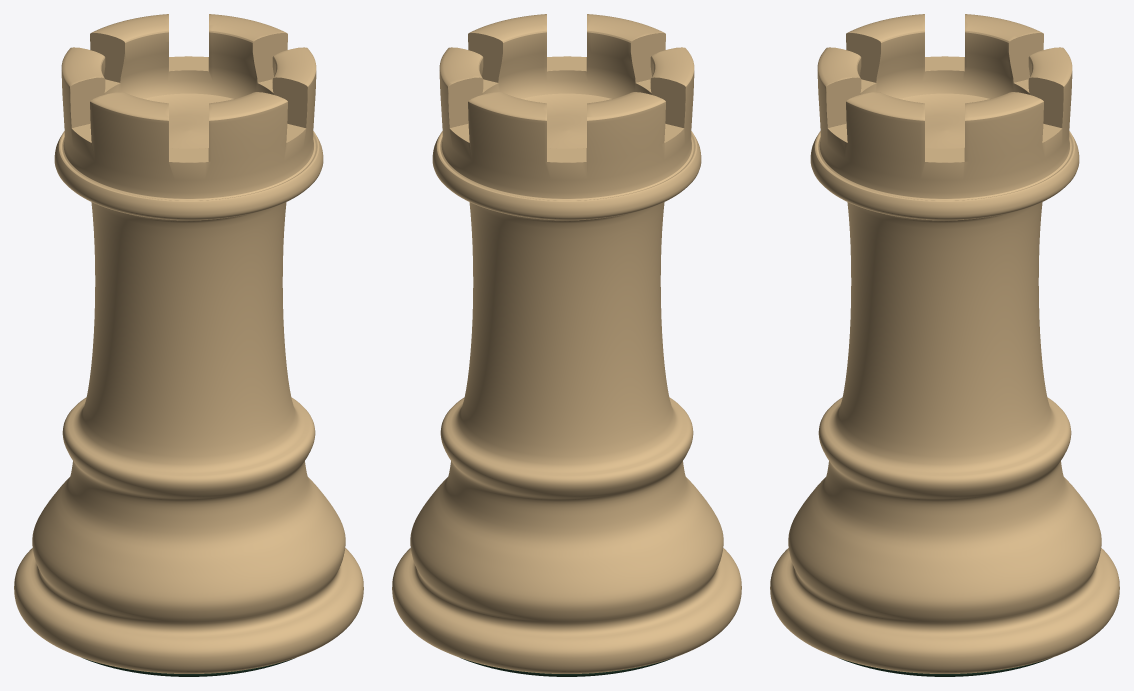
File: rook.glb
3 views of the same model, side by side, from view 1: azimuth 30°, elevation 25°; view 2: azimuth 150°, elevation 25°; view 3: azimuth 270°, elevation 25° (orthographic).
Parts seen in each view (by area): view 1: Rook.001; view 2: Rook.001; view 3: Rook.001.
Boxes of the visible parts, bbox=[...] form: Rook.001: bbox=[14, 14, 363, 676]; Rook.001: bbox=[392, 14, 741, 676]; Rook.001: bbox=[770, 14, 1119, 676].
Size of the model in its own units: 0.0352 by 0.0611 by 0.0352.
